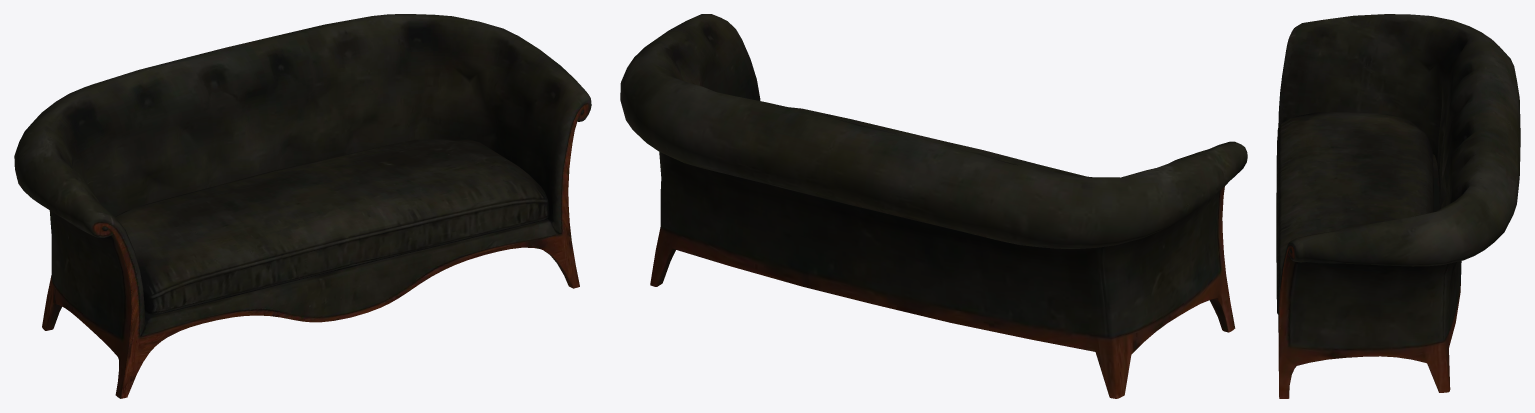
The model's file is sofa_02.glb.
3 renders of one model, left to right at view 1: azimuth 30°, elevation 25°; view 2: azimuth 150°, elevation 25°; view 3: azimuth 270°, elevation 25°, orthographic. The views are drawn at different scales.
Parts seen in each view (by area): view 1: sofa_02_Base; view 2: sofa_02_Base; view 3: sofa_02_Base.
Part boxes in pixels (<box>): sofa_02_Base: <box>14,14,591,398</box>; sofa_02_Base: <box>620,14,1247,398</box>; sofa_02_Base: <box>1276,14,1520,398</box>.
Size of the model in its own units: 1.81 by 0.7095 by 0.8176.
1 material, 1 textured.
